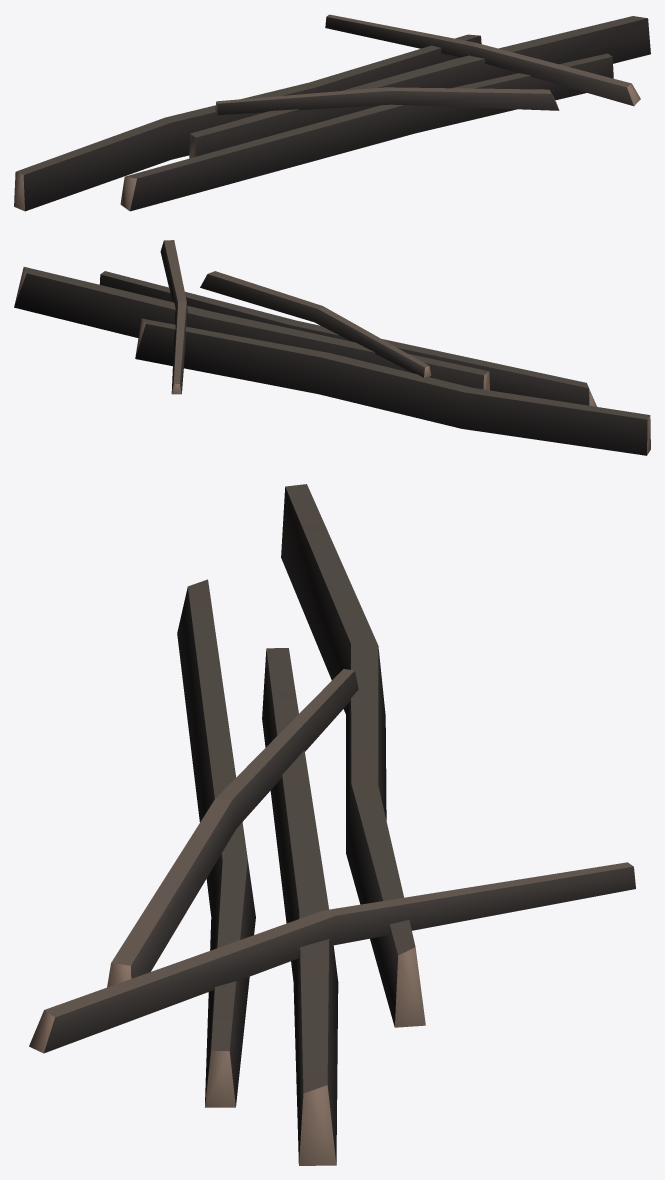
Rendered from Wooden_Twigs_1B.fbx.
3 renders of one model, top to bottom at view 1: azimuth 30°, elevation 25°; view 2: azimuth 150°, elevation 25°; view 3: azimuth 270°, elevation 25°, orthographic. The views are drawn at different scales.
Parts seen in each view (by area): view 1: Wooden_Twigs_1B; view 2: Wooden_Twigs_1B; view 3: Wooden_Twigs_1B.
Part boxes in pixels (left/top/right/bottom): Wooden_Twigs_1B: left=14, top=14, right=650, bottom=211; Wooden_Twigs_1B: left=14, top=240, right=650, bottom=455; Wooden_Twigs_1B: left=29, top=484, right=635, bottom=1165.
Size of the model in its own units: 92.97 by 6.72 by 39.
